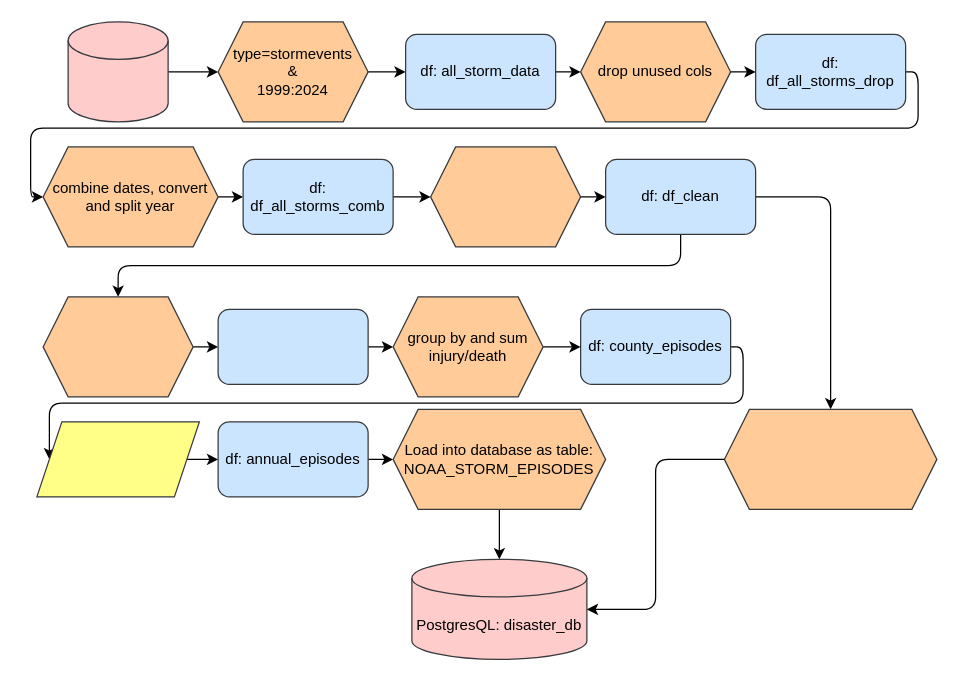
Image size: 959x681. Some labels were removed from this diagram. Here are the shapes that lost their labels. From the top down, the box of each, then its label:
(67, 21, 168, 122): NOAA FTP
(429, 146, 581, 247): combine FIPS, clean irrelavent FIPS
(42, 296, 193, 397): remove all data except where injury/death >0
(217, 308, 368, 384): df: severe_events
(36, 421, 199, 497): count episodes and transform
(723, 408, 937, 509): Load into database as table: NOAA_STORM_EVENTS
